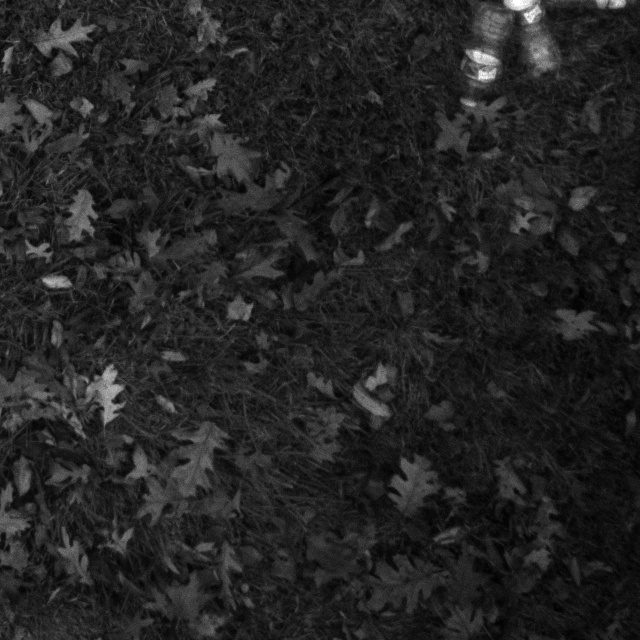bottle: (443, 0, 519, 126), (497, 0, 571, 86)
